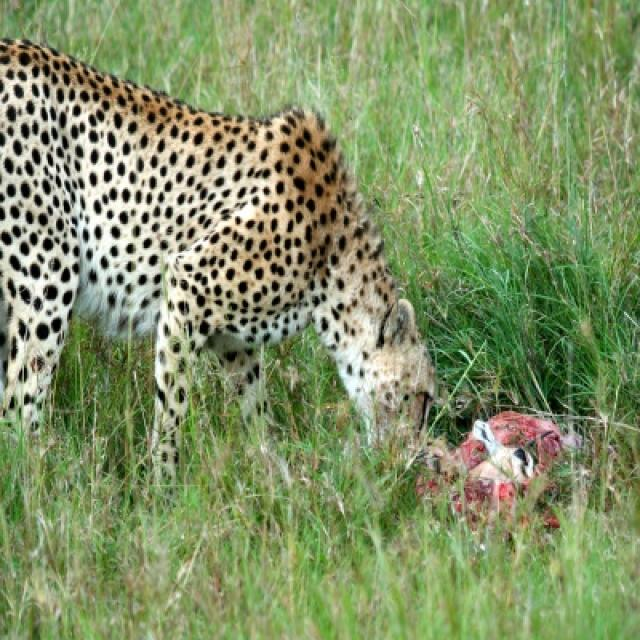Cheetah: (0, 38, 437, 480)
